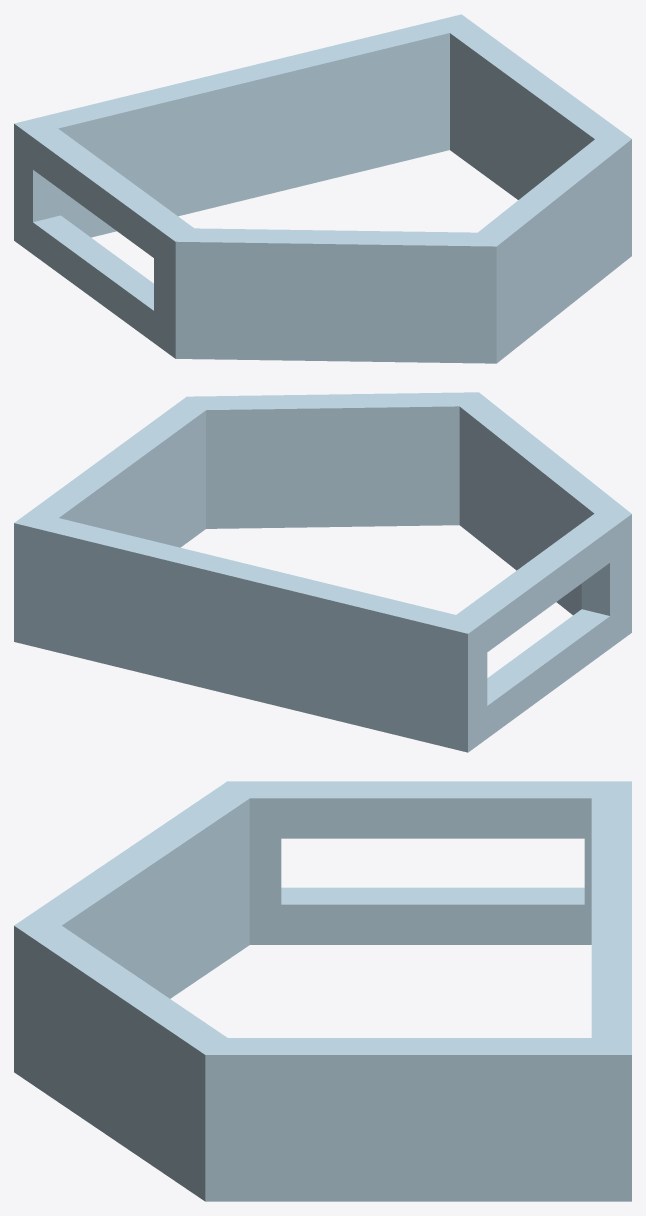
File: narrow window.glb
The picture shows the model from 3 angles, top to bottom: view 1: azimuth 30°, elevation 25°; view 2: azimuth 150°, elevation 25°; view 3: azimuth 270°, elevation 25°; orthographic projection. The views are drawn at different scales.
Visible parts, largest first — view 1: endwall; view 2: endwall; view 3: endwall.
Boxes of the visible parts, x1,y1,x2,y2 form: endwall: (14, 14, 631, 363); endwall: (14, 392, 631, 752); endwall: (14, 781, 631, 1201).
Size of the model in its own units: 4.8 by 1.2 by 4.58.
